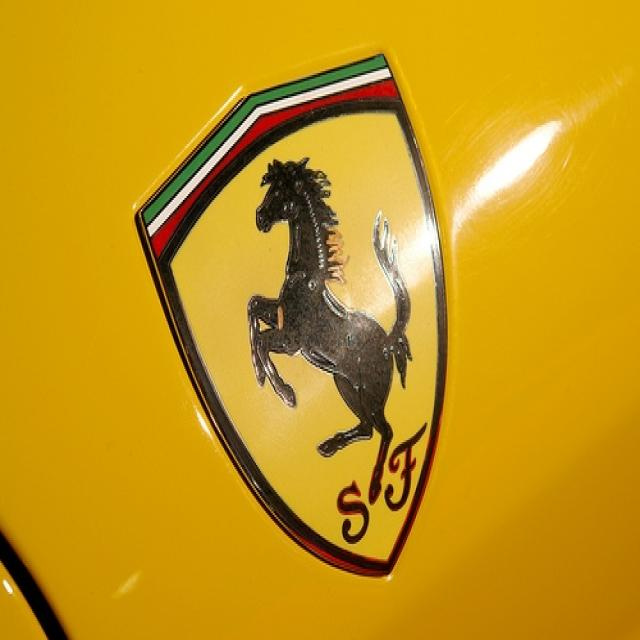ferrari: (137, 53, 448, 576)
